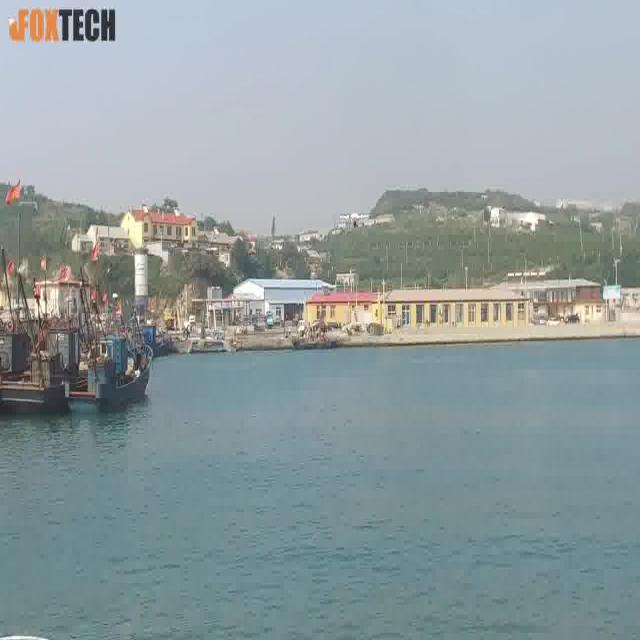drone: (339, 209, 371, 234)
